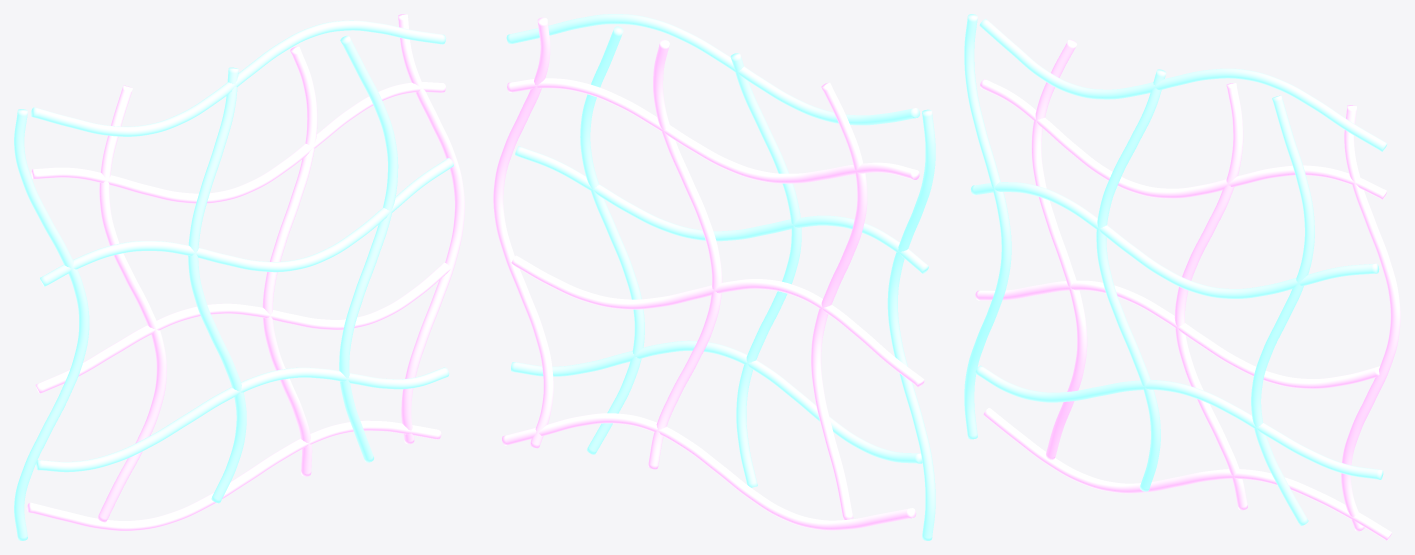
File: VFX_08_金蛇精_刚柔阴阳剑柔丝网.glb
3 views of the same model, side by side, from view 1: azimuth 30°, elevation 25°; view 2: azimuth 150°, elevation 25°; view 3: azimuth 330°, elevation 25° (orthographic).
Visible parts, largest first — view 1: SilkV_0, SilkH_5, SilkV_2, SilkH_3, SilkV_4, SilkH_1, SilkV_1, SilkH_4, SilkV_3, SilkV_5, SilkH_0, SilkH_2; view 2: SilkV_1, SilkH_2, SilkV_3, SilkH_0, SilkV_5, SilkV_0, SilkV_2, SilkH_4, SilkH_5, SilkV_4, SilkH_3, SilkH_1; view 3: SilkH_5, SilkV_4, SilkV_0, SilkV_2, SilkH_1, SilkH_3, SilkV_3, SilkH_4, SilkV_5, SilkH_0, SilkV_1, SilkH_2.
Part boxes in pixels (x1,y1,x2,y2): SilkV_0: (14,109,89,540); SilkH_5: (30,20,446,136); SilkV_2: (188,67,246,503); SilkH_3: (40,158,453,286); SilkV_4: (339,35,398,462); SilkH_1: (35,367,449,472); SilkV_1: (97,85,166,522); SilkH_4: (31,82,445,203); SilkV_3: (262,46,317,476); SilkV_5: (398,14,464,444); SilkH_0: (26,420,441,531); SilkH_2: (35,262,450,393); SilkV_1: (811,82,867,520); SilkH_2: (511,255,924,387); SilkV_3: (648,39,722,469); SilkH_0: (502,413,916,530); SilkV_5: (493,17,553,448); SilkV_0: (887,109,935,540); SilkV_2: (730,53,801,487); SilkH_4: (507,78,919,183); SilkH_5: (506,14,920,125); SilkV_4: (580,26,644,454); SilkH_3: (515,146,928,273); SilkH_1: (511,340,922,463); SilkH_5: (979,19,1387,151); SilkV_4: (1251,95,1314,525); SilkV_0: (964,14,1011,439); SilkV_2: (1096,69,1166,491); SilkH_1: (975,365,1383,479); SilkH_3: (971,182,1379,298); SilkV_3: (1174,83,1247,510); SilkH_4: (980,79,1386,199); SilkV_5: (1341,105,1400,531); SilkH_0: (983,407,1391,540); SilkV_1: (1031,39,1087,460); SilkH_2: (975,280,1379,388).
Bounding box in the file's own units: 3.82 × 3.82 × 0.4539.
